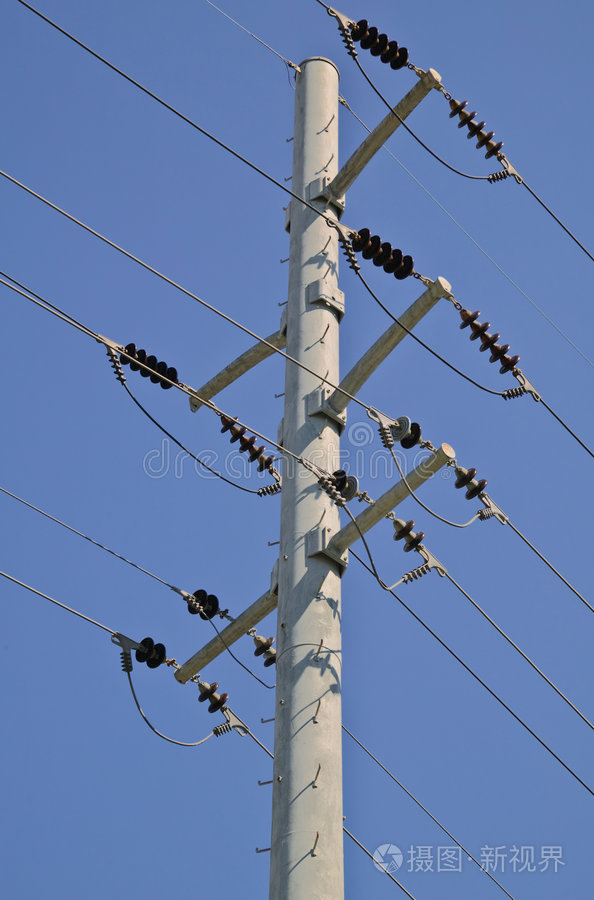insulator: (455, 311, 520, 377), (446, 95, 507, 158), (349, 227, 414, 281), (219, 415, 275, 472), (120, 341, 178, 390), (352, 19, 405, 72), (389, 518, 428, 549), (393, 412, 423, 451), (185, 588, 219, 620), (133, 635, 165, 669), (454, 468, 488, 500), (329, 469, 359, 503), (198, 682, 230, 712), (251, 636, 278, 671)
